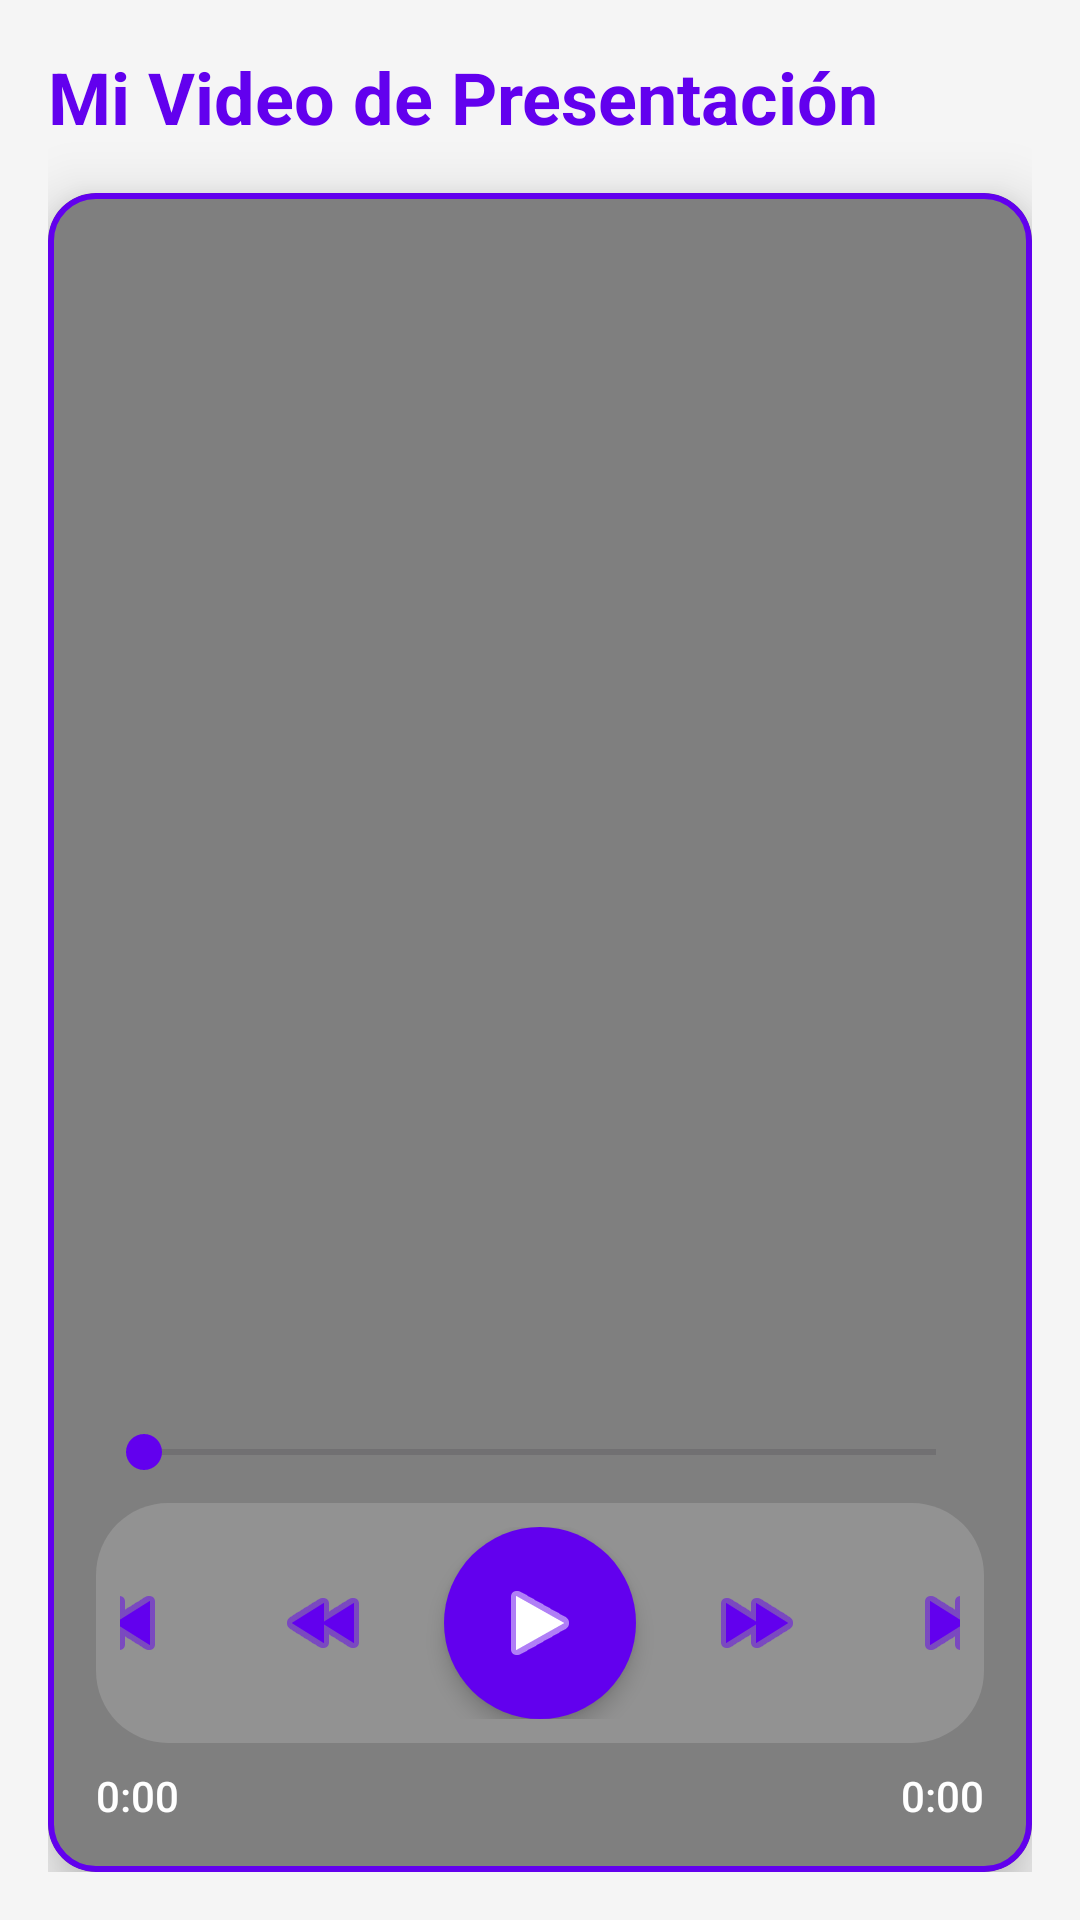

Locate icon controls on the screen. Image size 1080w x 1920h, boxes as box(x1, y1, x2, y2).
play: box(444, 1527, 636, 1719)
rew: box(287, 1598, 359, 1648)
